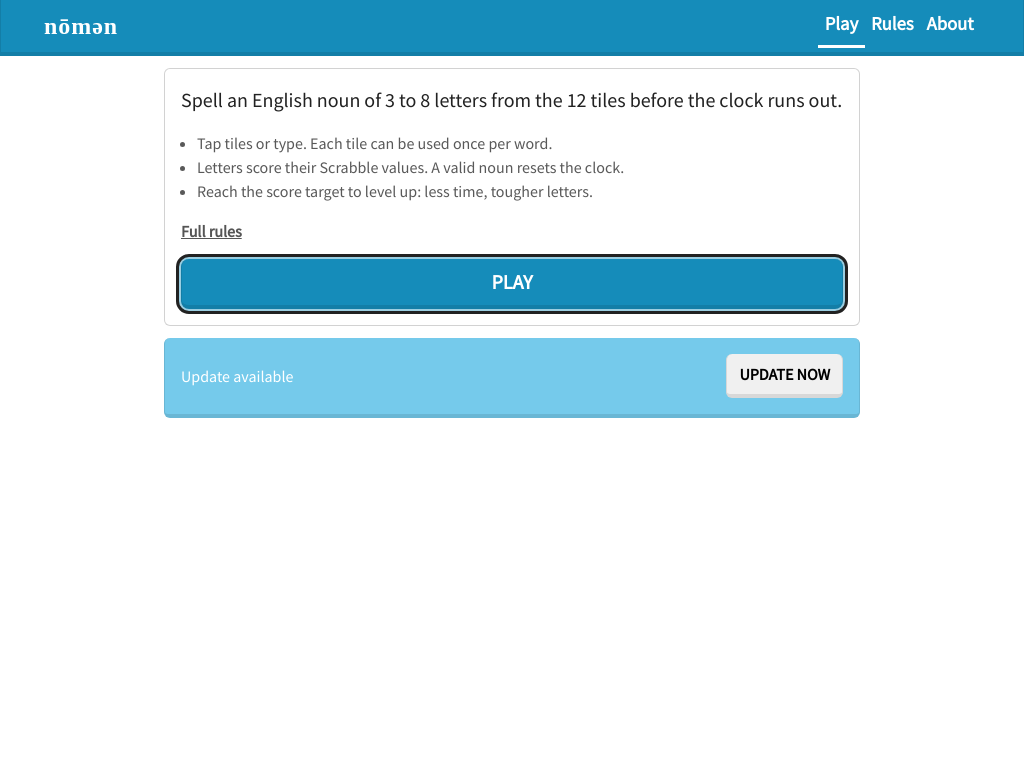
Scenario: App › offers a waiting update before a game but not during one
What coordinates should you click on to do the following:
click the button "Update now"
I would click on:
 (785, 376)
Its box is [726,354,843,398].
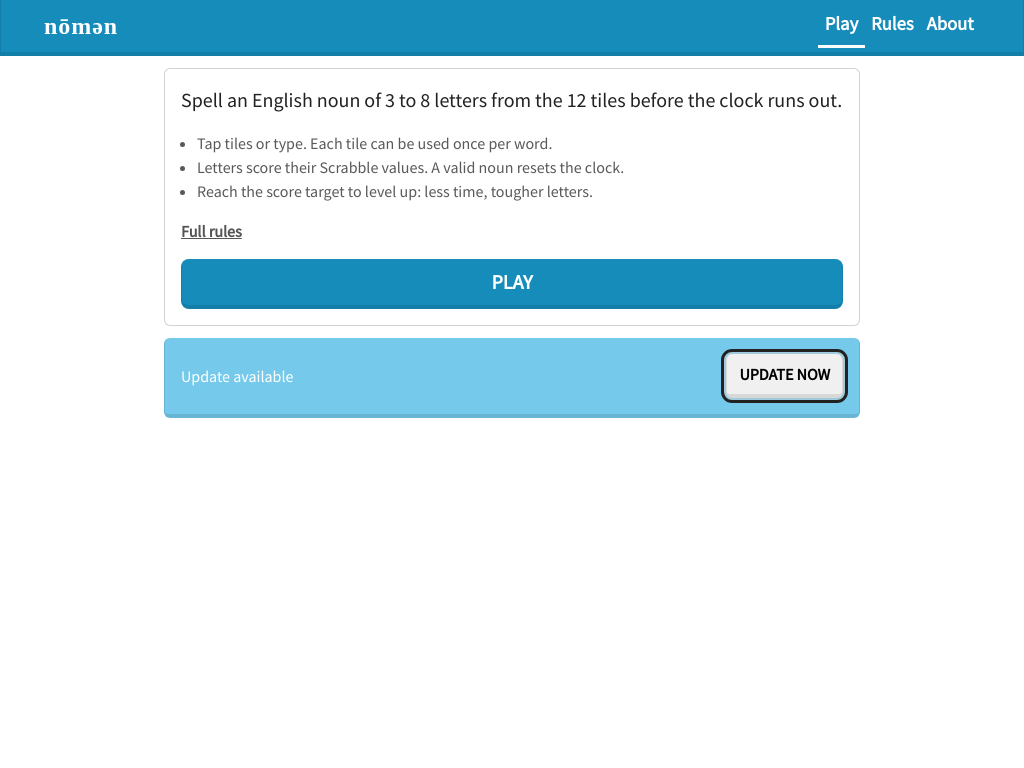
What coordinates should you click on to do the following:
click the button "Play"
I would click on:
 (512, 284)
Its box is [181,259,843,309].
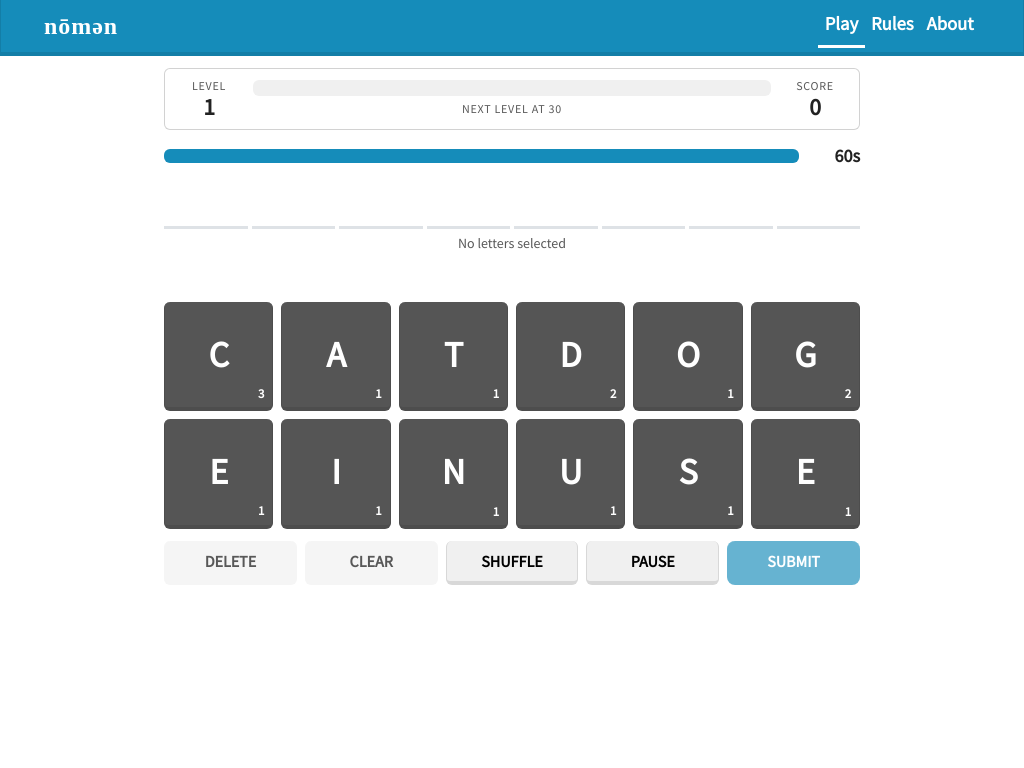
Now the text "Update available" is gone
